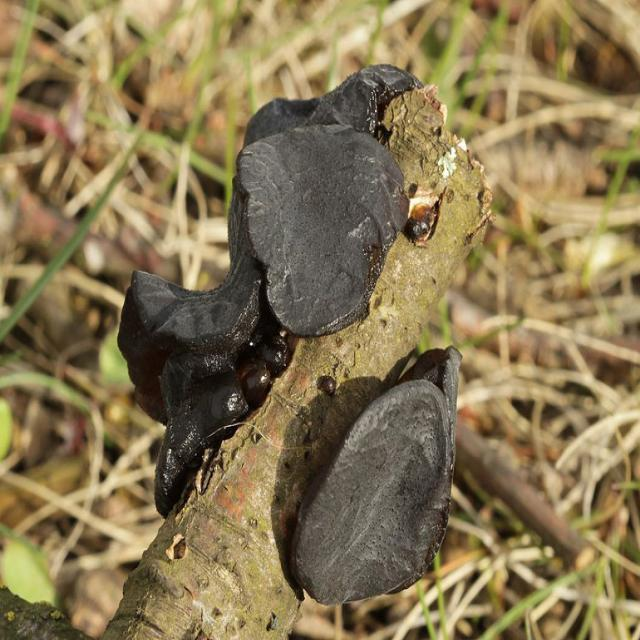Auricularia auricula: (116, 67, 425, 491), (295, 345, 464, 607)
